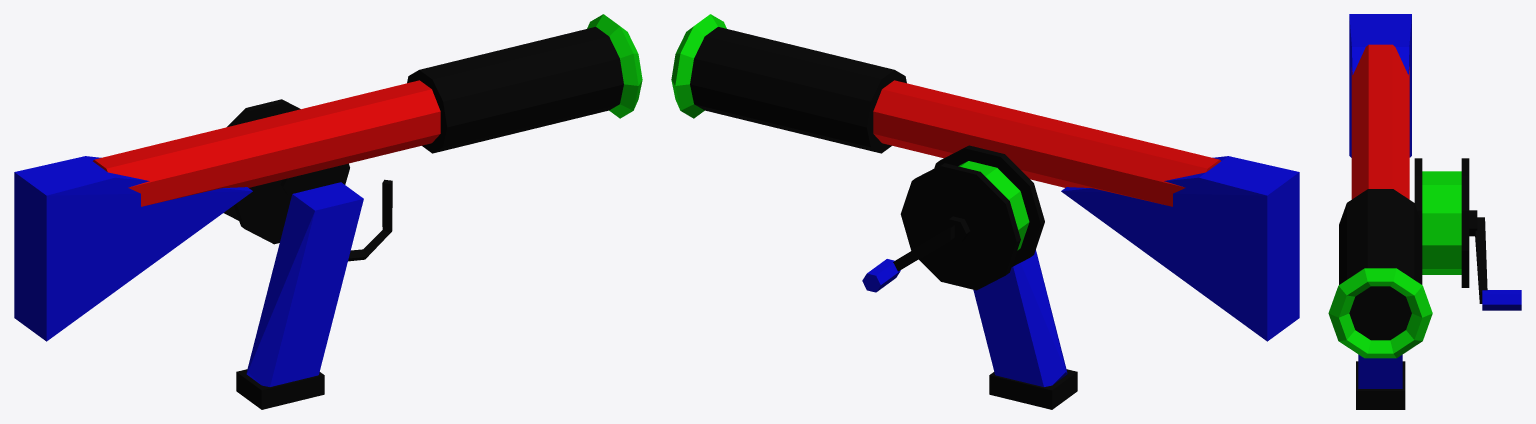
File: SM_TN_Garfio.fbx
3 views of the same model, side by side, from view 1: azimuth 30°, elevation 25°; view 2: azimuth 150°, elevation 25°; view 3: azimuth 270°, elevation 25° (orthographic). The views are drawn at different scales.
Visible parts, largest first — view 1: SM_TN_Garfio; view 2: SM_TN_Garfio; view 3: SM_TN_Garfio.
Part boxes in pixels (bbox=[...]): SM_TN_Garfio: bbox=[14, 14, 642, 409]; SM_TN_Garfio: bbox=[671, 14, 1299, 409]; SM_TN_Garfio: bbox=[1328, 14, 1521, 409].
Bounding box in the file's own units: 50.8 × 24 × 14.8.
